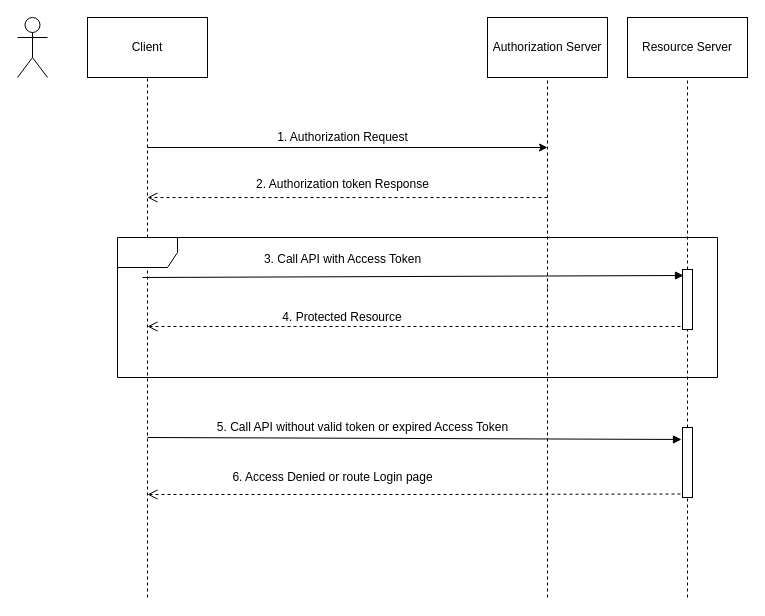
Image size: 765x616. Some labels were removed from this diagram. Each missing label, with the box of its shape:
Actor: (16, 16, 48, 78)
loop: (116, 236, 718, 378)
